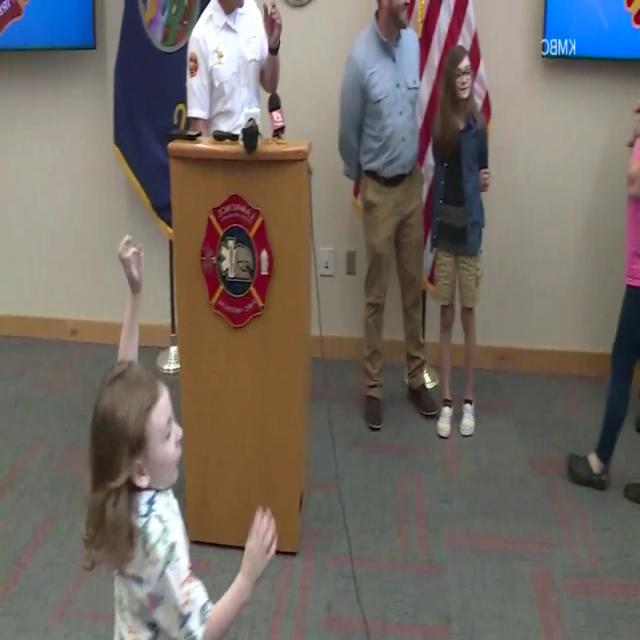adult: (339, 0, 418, 432), (569, 53, 640, 496), (422, 49, 486, 448), (186, 0, 282, 147)
child: (91, 233, 276, 640)
